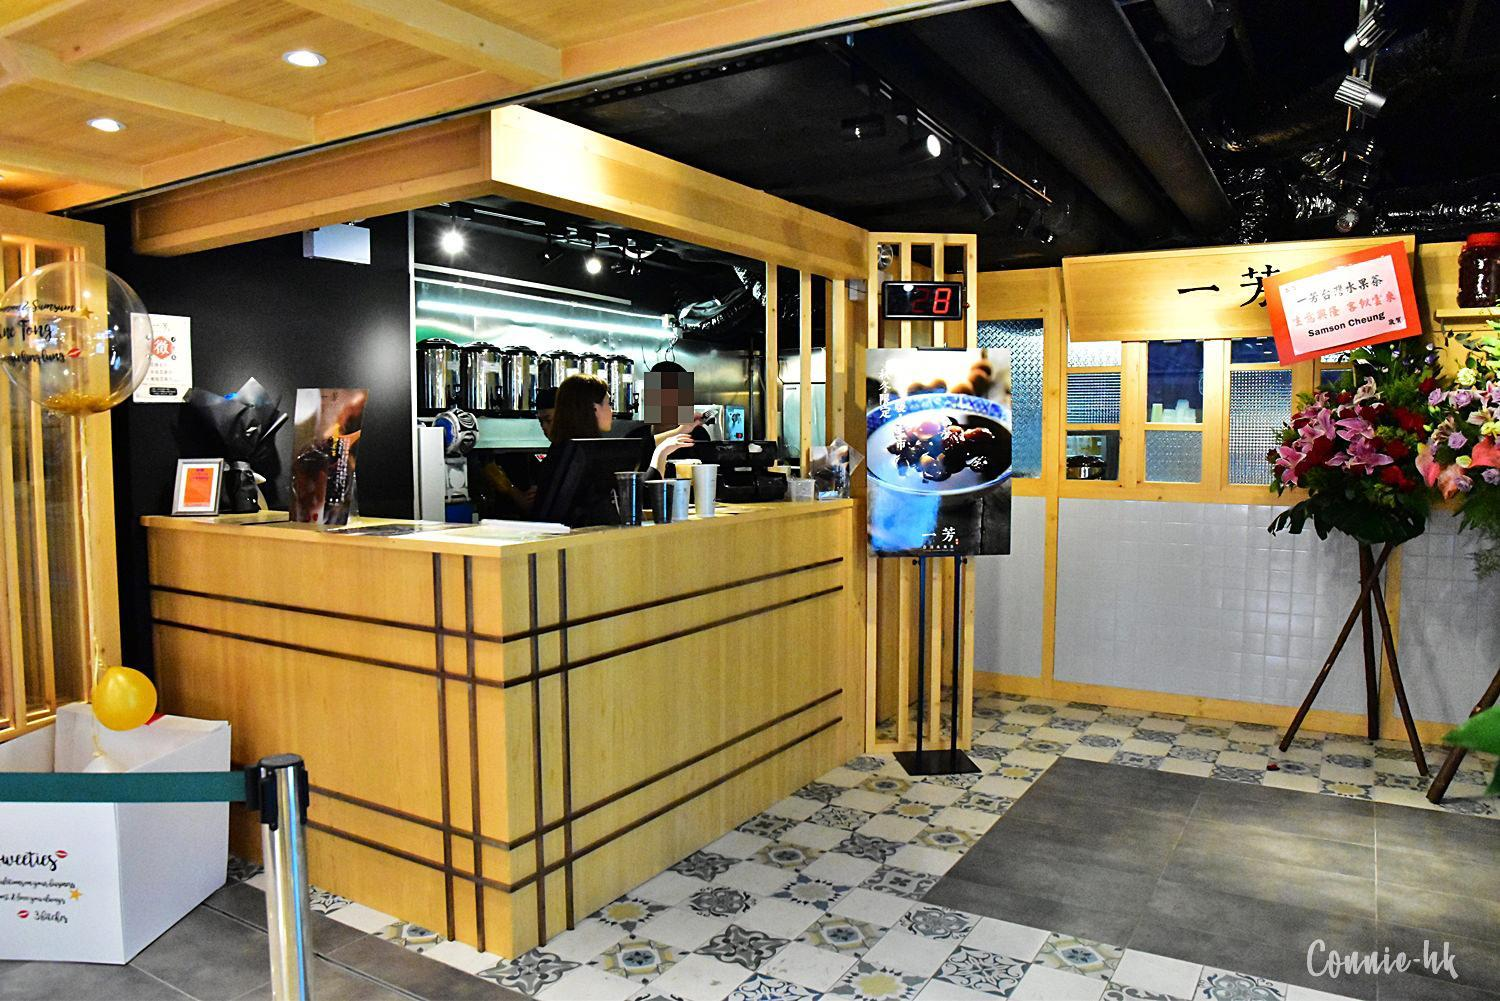apple: (90, 666, 157, 733)
